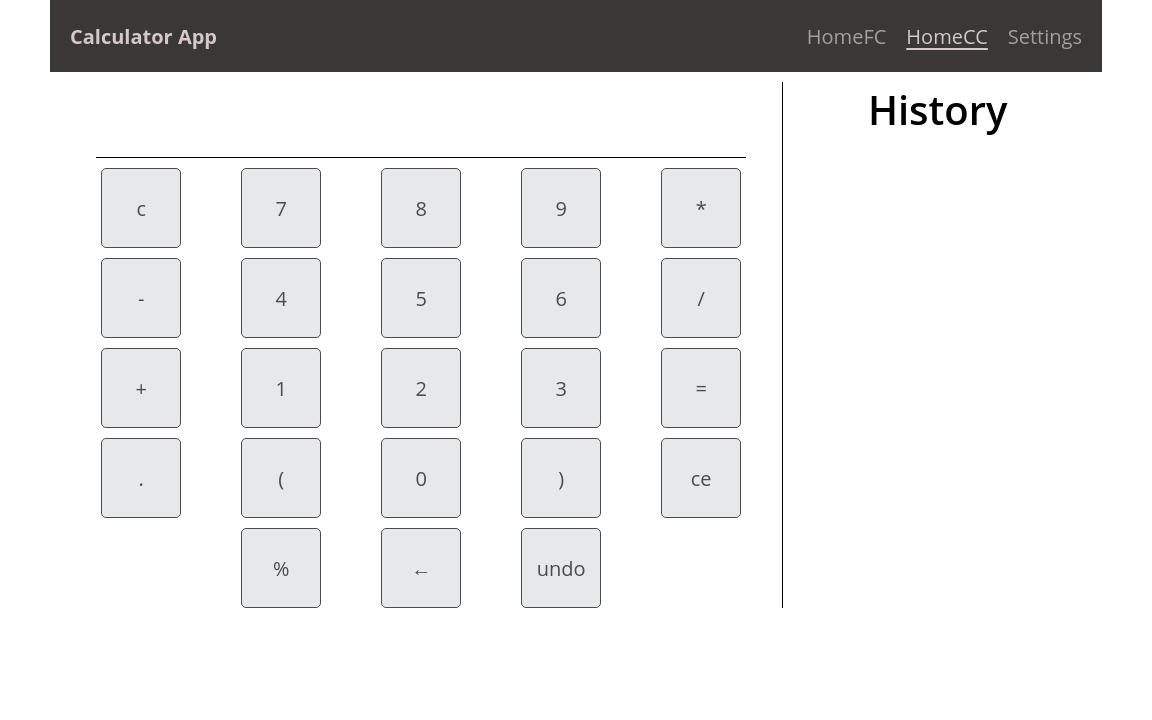
Test: test calcurator app › testing CC multiply command
Expected: the element with test id "keypadCC" is shown, left=60, top=158, right=782, bottom=608
Click the text "1" at [281, 388], box left=241, top=348, right=321, bottom=428
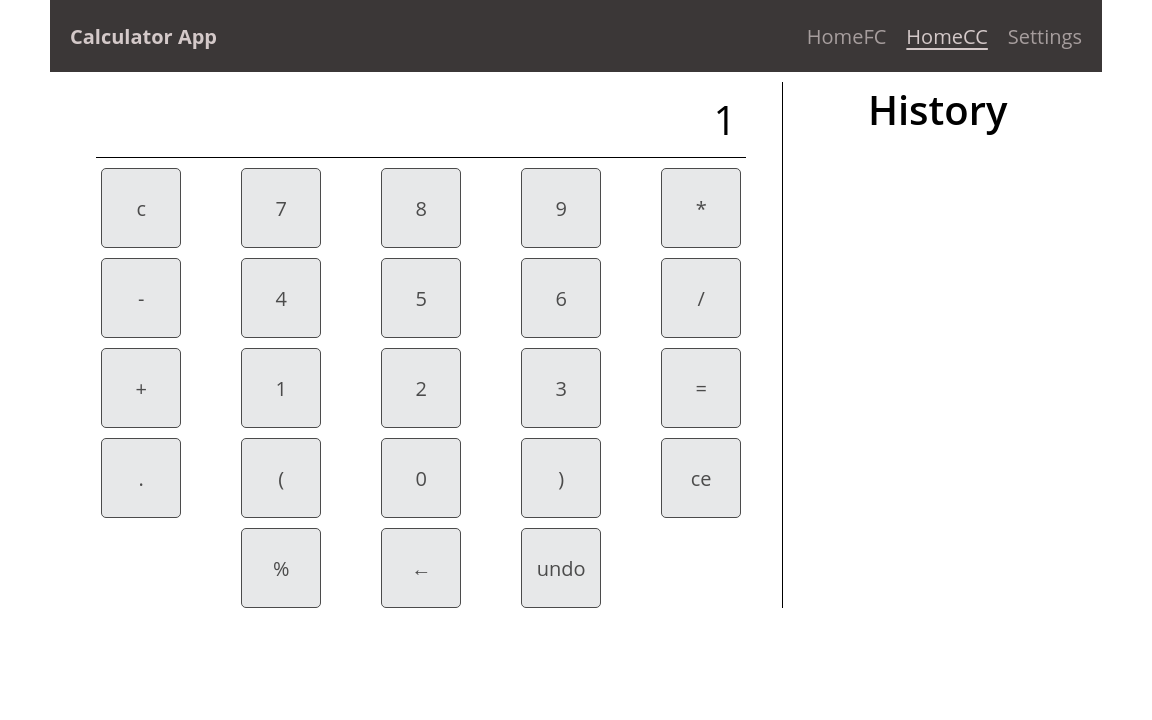
Expected: the element with test id "keypadCC" is shown, left=60, top=158, right=782, bottom=608
Click the text "*" at [701, 208], box left=661, top=168, right=741, bottom=248
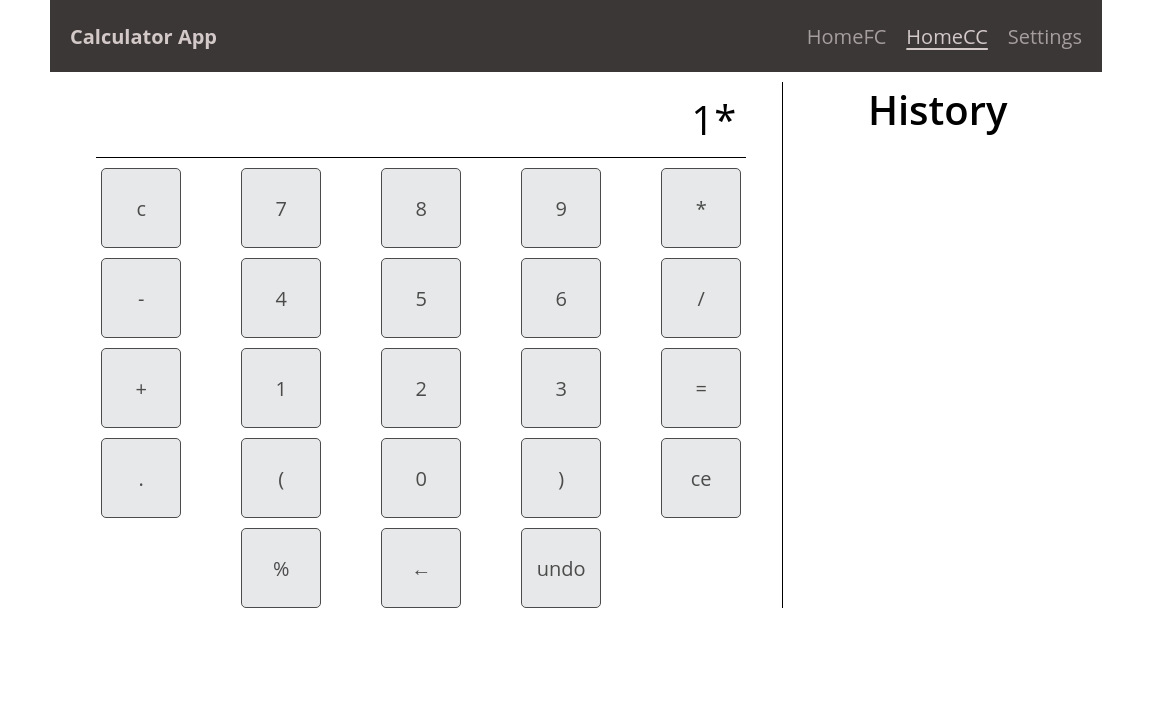
Expected: the element with test id "keypadCC" is shown, left=60, top=158, right=782, bottom=608
Click the text "4" at [281, 298], box left=241, top=258, right=321, bottom=338
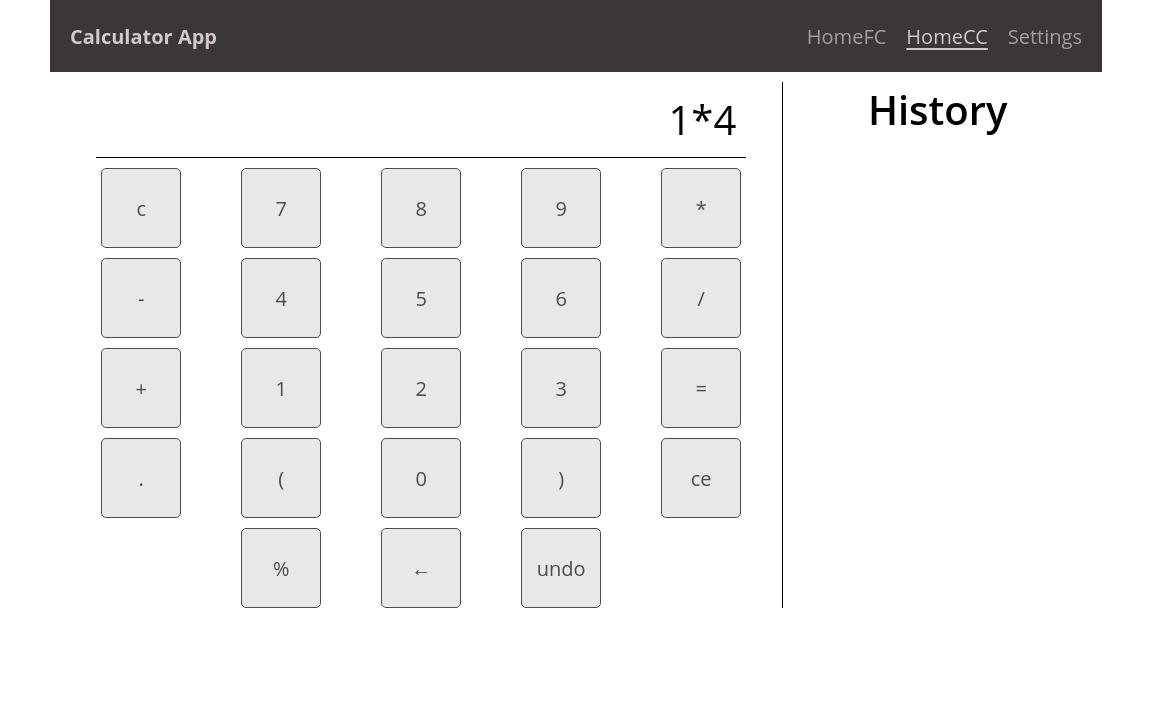
Expected: the element with test id "keypadCC" is shown, left=60, top=158, right=782, bottom=608
Click the text "=" at [701, 388], box left=661, top=348, right=741, bottom=428
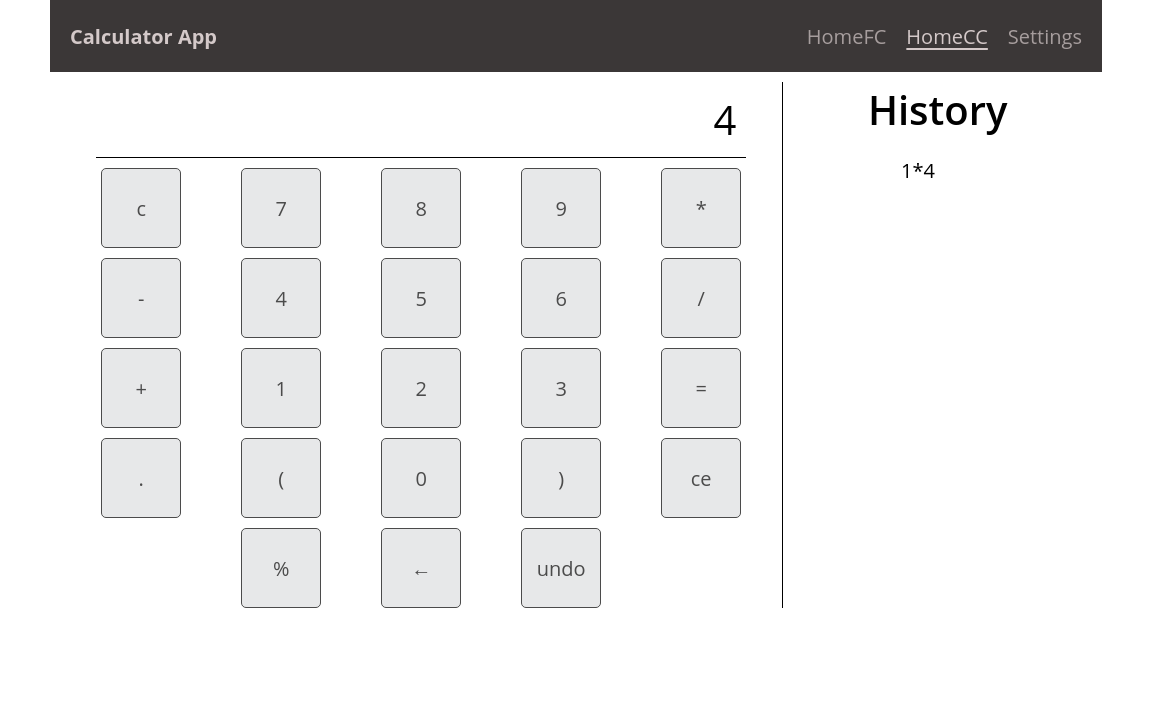
Expected: the element with test id "historyCC" is shown, left=868, top=82, right=1008, bottom=184
Expected: the field with test id "displayCC" holds "4", left=96, top=82, right=746, bottom=157
Expected: the text "1*4" is shown, left=901, top=157, right=935, bottom=184
